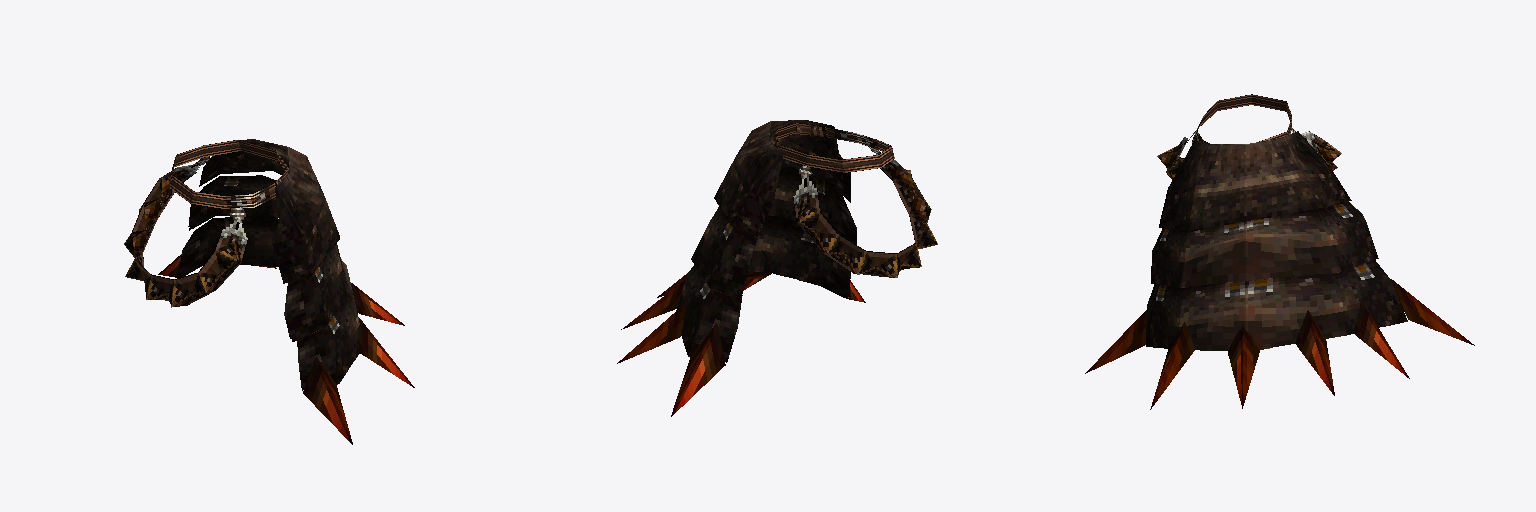
3 renders of one model, left to right at view 1: azimuth 30°, elevation 25°; view 2: azimuth 150°, elevation 25°; view 3: azimuth 270°, elevation 25°, orthographic.
Parts seen in each view (by area): view 1: mesh00; view 2: mesh00; view 3: mesh00.
Boxes of the visible parts, x1=… form: mesh00: x1=124, y1=139, x2=414, y2=444; mesh00: x1=617, y1=120, x2=937, y2=416; mesh00: x1=1085, y1=94, x2=1474, y2=409.
Size of the model in its own units: 82.47 by 70.86 by 106.
Materials: 1 (1 with a texture image).